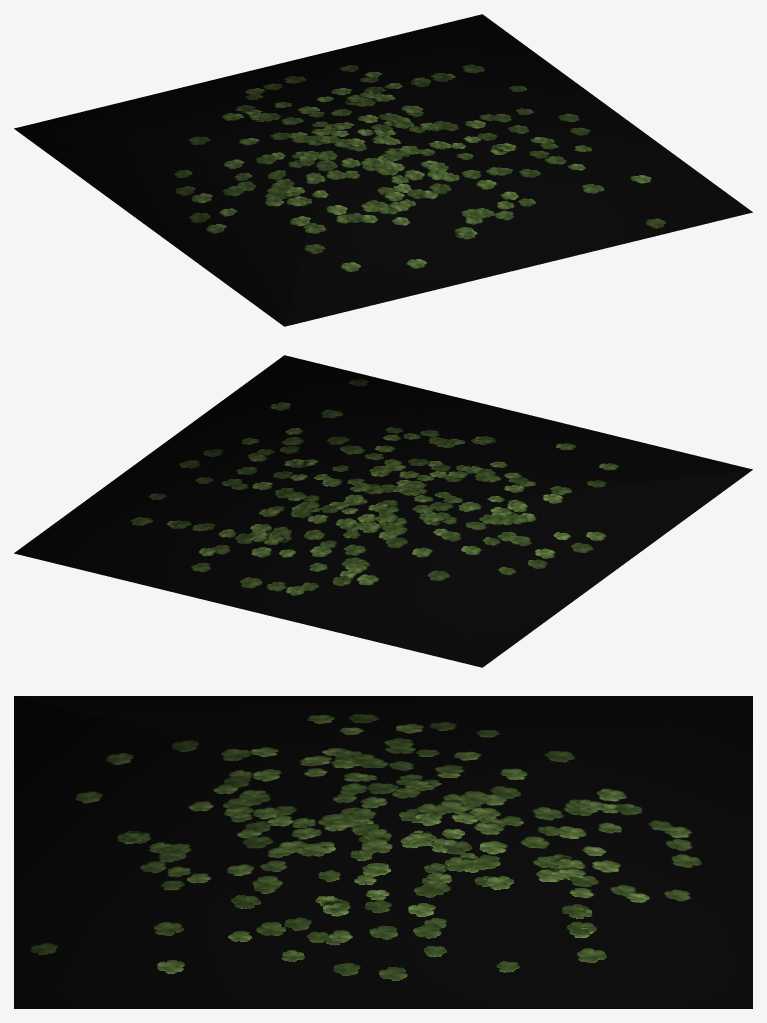
The model's file is lake1.fbx.
3 views of the same model, one above another, from view 1: azimuth 30°, elevation 25°; view 2: azimuth 150°, elevation 25°; view 3: azimuth 270°, elevation 25° (orthographic). The views are drawn at different scales.
Parts seen in each view (by area): view 1: Clover-03; view 2: Clover-03; view 3: Clover-03.
Part boxes in pixels (<box>): Clover-03: <box>14,14,752,326</box>; Clover-03: <box>14,355,752,667</box>; Clover-03: <box>14,696,752,1008</box>.
Size of the model in its own units: 161 by 6.98 by 161.
